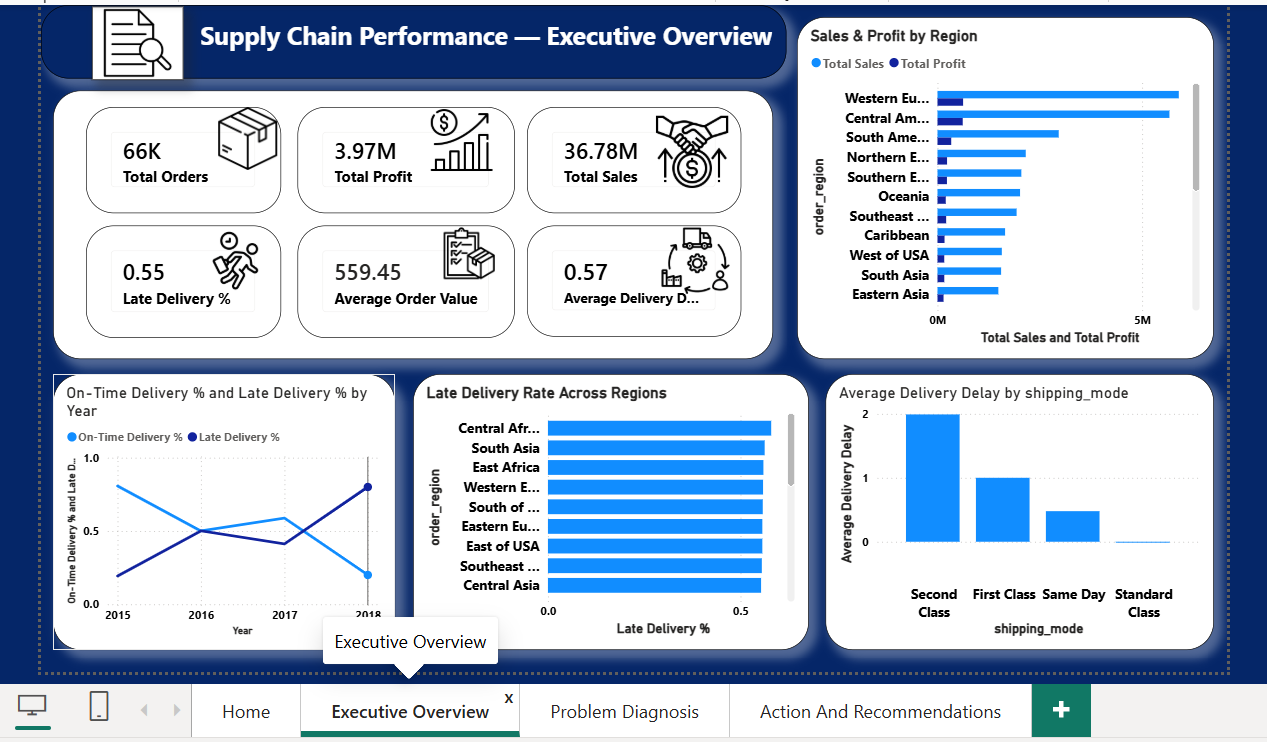

What the dashboard file says about the page in this screenshot:
{"tool":"powerbi","page":{"name":"Executive Overview","canvas":[1280,720],"ordinal":1},"visuals":[{"type":"lineChart","fields":{"Category":["supply_chain dim_date.full_date.Variation.Date Hierarchy.Year"],"Y":["All measures.On-Time Delivery %","All measures.Late Delivery %"]},"box":[13,398.3,369.2,297.9],"z":0},{"type":"barChart","title":"Late Delivery Rate Across Regions","fields":{"Category":["supply_chain fact_supply_chain.order_region"],"Y":["Divide(All measures.Late Delivery %, ScopedEval(All measures.Late Delivery %, []))"]},"box":[401.6,398.3,427.5,297.9],"z":1000},{"type":"clusteredColumnChart","fields":{"Category":["supply_chain dim_shipping.shipping_mode"],"Y":["All measures.Average Delivery Delay"]},"box":[846.9,398.3,419.4,297.9],"z":2000},{"type":"clusteredBarChart","title":"Sales & Profit by Region","fields":{"Category":["supply_chain fact_supply_chain.order_region"],"Y":["All measures.Total Sales","All measures.Total Profit"]},"box":[816.1,13,450.1,369.2],"z":3000},{"type":"textbox","box":[13,92.3,777.2,289.8],"z":4000},{"type":"cardVisual","fields":{"Data":["All measures.Total Orders"]},"box":[48.6,110.1,210.5,115],"z":5000},{"type":"cardVisual","fields":{"Data":["All measures.Total Profit"]},"box":[276.9,110.1,234.8,115],"z":6000},{"type":"cardVisual","fields":{"Data":["All measures.Total Sales"]},"box":[524.6,110.1,231.5,115],"z":7000},{"type":"cardVisual","fields":{"Data":["All measures.Late Delivery %"]},"box":[48.6,238,210.5,121.4],"z":8000},{"type":"cardVisual","fields":{"Data":["All measures.Average Delivery Delay"]},"box":[524.6,238,231.5,119.8],"z":9000},{"type":"cardVisual","fields":{"Data":["All measures.Average Order Value"]},"box":[276.9,238,234.8,121.4],"z":10000},{"type":"image","box":[187.8,110.1,71.2,68],"z":11000},{"type":"image","box":[395.1,110.1,118.2,71.2],"z":12000},{"type":"image","box":[641.2,118.2,123.1,81],"z":13000},{"type":"image","box":[142.5,238,134.4,76.1],"z":14000},{"type":"image","box":[399.9,238,124.7,59.9],"z":15000},{"type":"image","box":[641.2,238,131.2,76.1],"z":16000},{"type":"textbox","box":[0,0,804.8,79.3],"z":17000},{"type":"image","box":[55.1,1.6,98.8,79.3],"z":18000}]}

Visuals, with their boxes on the page's 1280x720 design canvas (x1, y1, x2, y2). These are canvas units, not pixel positions in the 1267x742 screenshot, which may show the page scaled, cropped or inside an application window:
lineChart - supply_chain dim_date.full_date.Variation.Date Hierarchy.Year x All measures.On-Time Delivery %: select_region(13, 398, 382, 696)
"Late Delivery Rate Across Regions" barChart: select_region(402, 398, 829, 696)
clusteredColumnChart - supply_chain dim_shipping.shipping_mode x All measures.Average Delivery Delay: select_region(847, 398, 1266, 696)
"Sales & Profit by Region" clusteredBarChart: select_region(816, 13, 1266, 382)
textbox: select_region(13, 92, 790, 382)
cardVisual - All measures.Total Orders: select_region(49, 110, 259, 225)
cardVisual - All measures.Total Profit: select_region(277, 110, 512, 225)
cardVisual - All measures.Total Sales: select_region(525, 110, 756, 225)
cardVisual - All measures.Late Delivery %: select_region(49, 238, 259, 359)
cardVisual - All measures.Average Delivery Delay: select_region(525, 238, 756, 358)
cardVisual - All measures.Average Order Value: select_region(277, 238, 512, 359)
image: select_region(188, 110, 259, 178)
image: select_region(395, 110, 513, 181)
image: select_region(641, 118, 764, 199)
image: select_region(142, 238, 277, 314)
image: select_region(400, 238, 525, 298)
image: select_region(641, 238, 772, 314)
textbox: select_region(0, 0, 805, 79)
image: select_region(55, 2, 154, 81)
